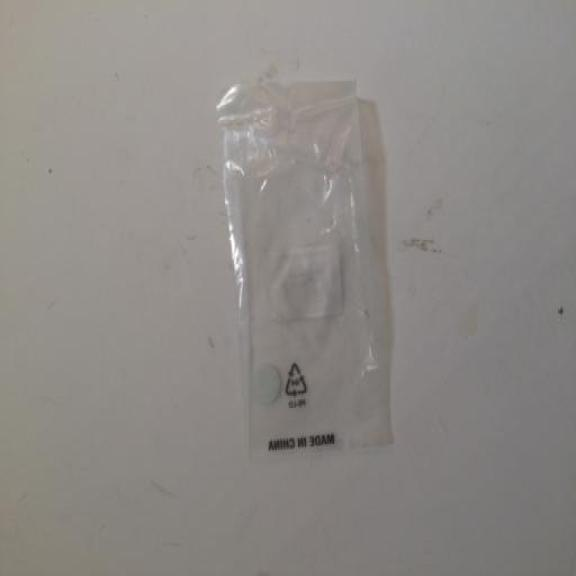Plastik: (212, 59, 402, 469)
